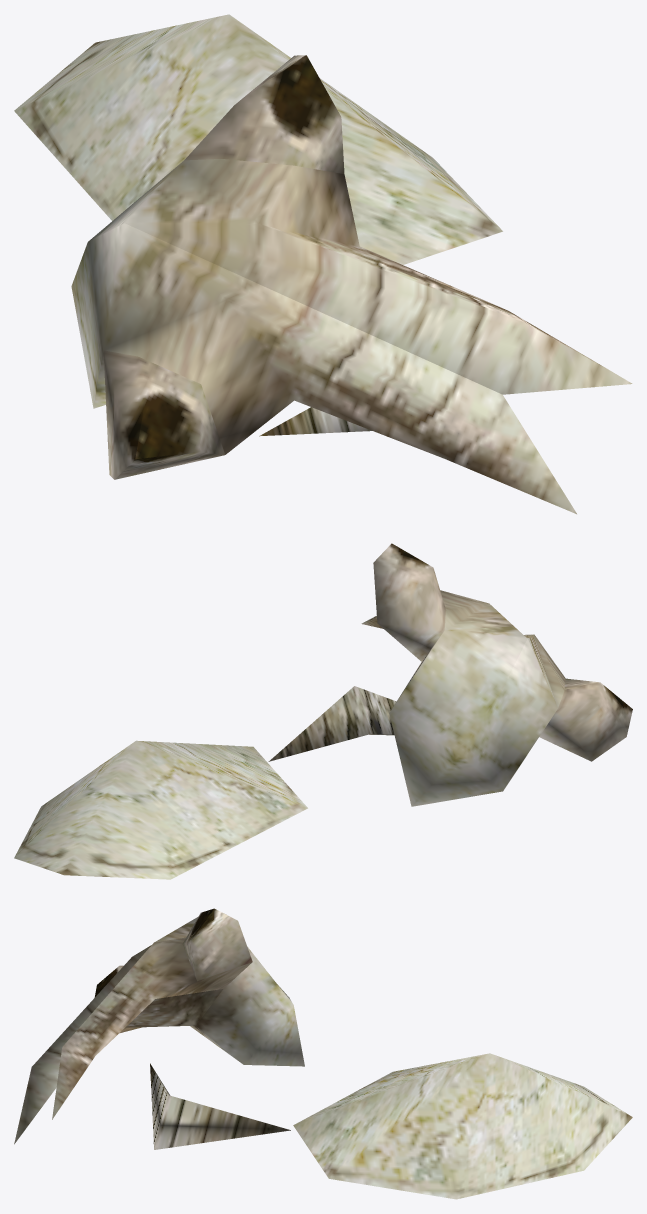
The model's file is poi_all_ithorian_head_l2.fbx.
The picture shows the model from 3 angles, top to bottom: view 1: azimuth 30°, elevation 25°; view 2: azimuth 150°, elevation 25°; view 3: azimuth 270°, elevation 25°; orthographic projection. The views are drawn at different scales.
Parts seen in each view (by area): view 1: mesh_node; view 2: mesh_node; view 3: mesh_node.
Part boxes in pixels (x1=…): mesh_node: x1=14, y1=14, x2=632, y2=514; mesh_node: x1=14, y1=543, x2=632, y2=879; mesh_node: x1=14, y1=908, x2=632, y2=1199.
Size of the model in its own units: 0.2893 by 0.1629 by 0.4349.
Materials: 1 (1 with a texture image).
